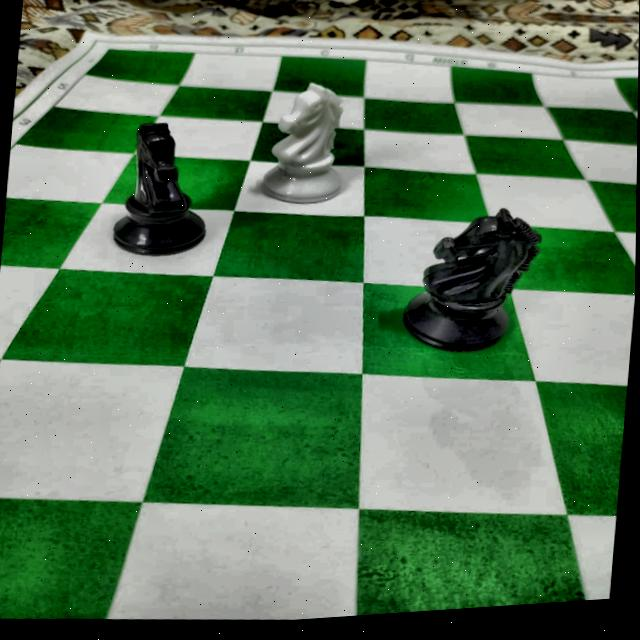BlackKnight: (394, 195, 541, 360), (106, 112, 218, 263)
WhiteKnight: (256, 76, 351, 210)
